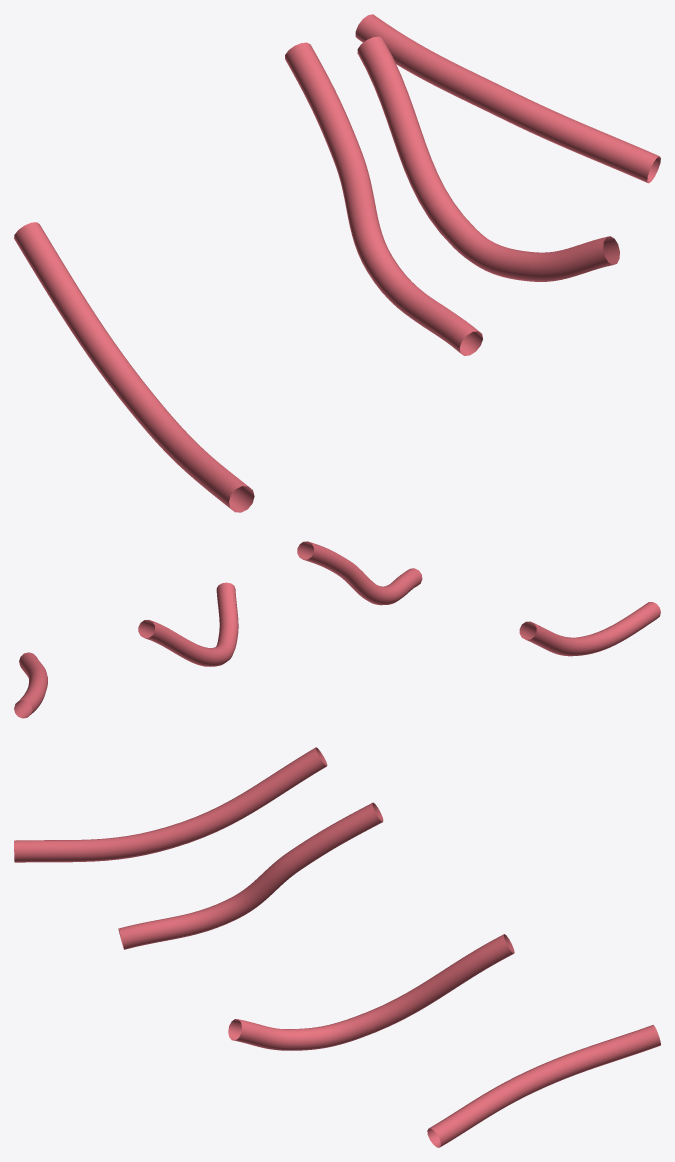
The picture shows the model from 3 angles, top to bottom: view 1: azimuth 30°, elevation 25°; view 2: azimuth 150°, elevation 25°; view 3: azimuth 270°, elevation 25°; orthographic projection. The views are drawn at different scales.
Visible parts, largest first — view 1: ZA_7bad5e129328a8b7; view 2: ZA_7bad5e129328a8b7; view 3: ZA_7bad5e129328a8b7.
Boxes of the visible parts, x1,y1,x2,y2 form: ZA_7bad5e129328a8b7: [14, 14, 660, 512]; ZA_7bad5e129328a8b7: [14, 541, 660, 718]; ZA_7bad5e129328a8b7: [14, 747, 660, 1147].
Size of the model in its own units: 0.0397 by 0.0139 by 0.0408.
